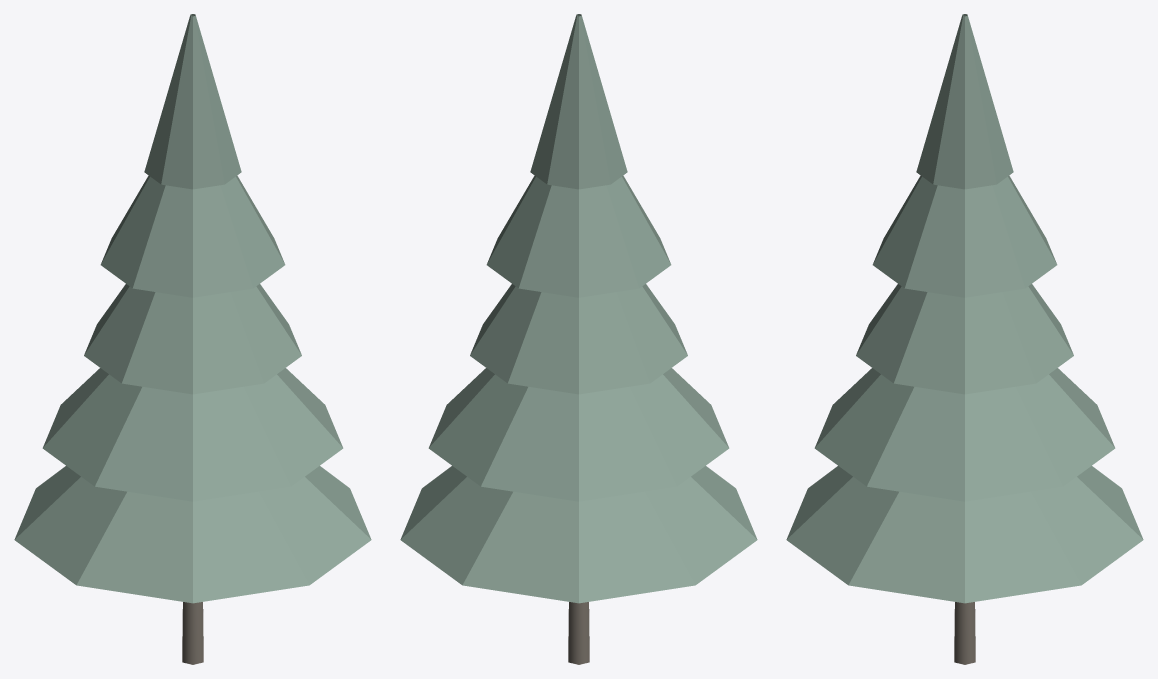
Rendered from tree_pine.glb.
3 views of the same model, side by side, from view 1: azimuth 30°, elevation 25°; view 2: azimuth 150°, elevation 25°; view 3: azimuth 270°, elevation 25° (orthographic).
Parts seen in each view (by area): view 1: tree_pine; view 2: tree_pine; view 3: tree_pine.
Part boxes in pixels (x1,y1,x2,y2): tree_pine: (14,14,371,664); tree_pine: (400,14,757,664); tree_pine: (786,14,1143,664).
Size of the model in its own units: 6.23 by 12.6 by 6.33.
